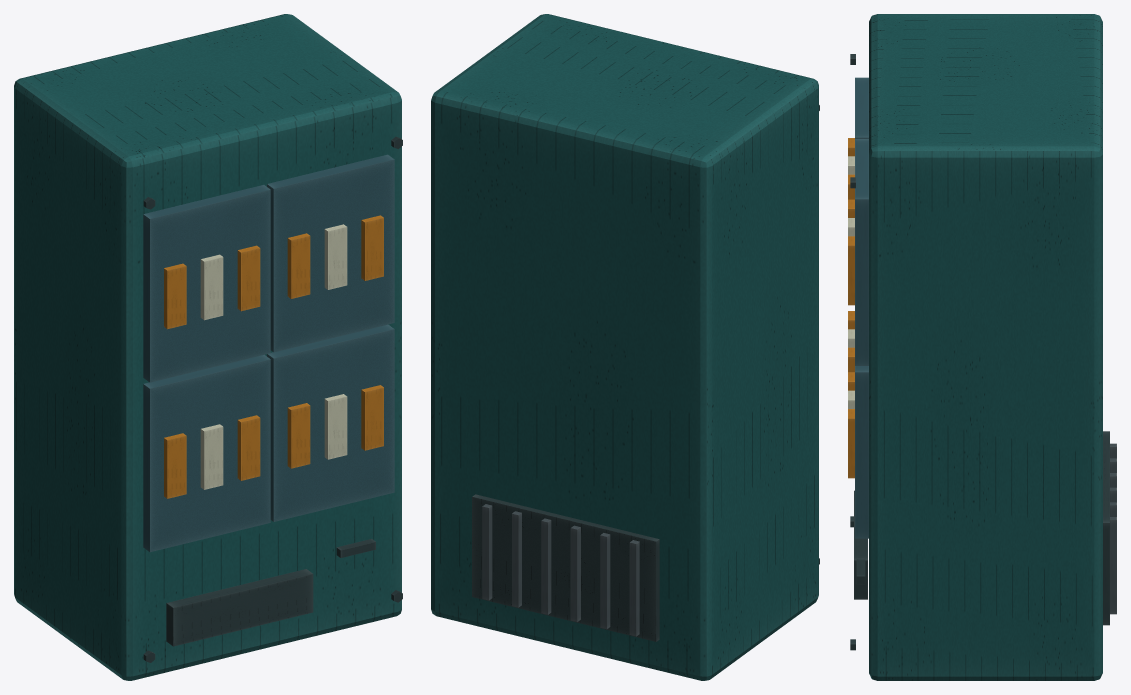
The model's file is vending_unit.fbx.
3 renders of one model, left to right at view 1: azimuth 30°, elevation 25°; view 2: azimuth 150°, elevation 25°; view 3: azimuth 270°, elevation 25°, orthographic.
Visible parts, largest first — view 1: vending_unit__shell, vending_unit__front_tile.002, vending_unit__front_tile, vending_unit__front_tile.003, vending_unit__front_tile.001, vending_unit__delivery_slot, vending_unit__product.001, vending_unit__product.002, vending_unit__product.003, vending_unit__product.004, vending_unit__product.008, vending_unit__product.007 (+6 smaller); view 2: vending_unit__shell, vending_unit__rear_vent, vending_unit__vent_fin.003, vending_unit__vent_fin, vending_unit__vent_fin.001, vending_unit__vent_fin.002, vending_unit__vent_fin.005, vending_unit__vent_fin.004; view 3: vending_unit__shell, vending_unit__front_tile.003, vending_unit__front_tile.001, vending_unit__rear_vent, vending_unit__front_tile.002, vending_unit__delivery_slot, vending_unit__vent_fin.005, vending_unit__product.005, vending_unit__product.011.
Boxes of the visible parts, box(x1,y1,x2,y2) form: vending_unit__shell: box(14, 14, 401, 680); vending_unit__front_tile.002: box(143, 185, 270, 382); vending_unit__front_tile: box(143, 354, 270, 552); vending_unit__front_tile.003: box(267, 154, 394, 352); vending_unit__front_tile.001: box(267, 324, 394, 521); vending_unit__delivery_slot: box(166, 569, 313, 646); vending_unit__product.001: box(200, 424, 223, 489); vending_unit__product.002: box(237, 415, 260, 480); vending_unit__product.003: box(287, 403, 310, 468); vending_unit__product.004: box(324, 394, 347, 459); vending_unit__product.008: box(237, 245, 260, 311); vending_unit__product.007: box(200, 254, 223, 320); vending_unit__shell: box(431, 14, 818, 680); vending_unit__rear_vent: box(472, 494, 659, 641); vending_unit__vent_fin.003: box(541, 518, 551, 614); vending_unit__vent_fin: box(629, 540, 639, 636); vending_unit__vent_fin.001: box(600, 533, 610, 629); vending_unit__vent_fin.002: box(570, 525, 580, 621); vending_unit__vent_fin.005: box(482, 504, 492, 600); vending_unit__vent_fin.004: box(512, 511, 521, 607); vending_unit__shell: box(869, 14, 1102, 680); vending_unit__front_tile.003: box(855, 139, 868, 365); vending_unit__front_tile.001: box(855, 366, 868, 538); vending_unit__rear_vent: box(1103, 431, 1109, 625); vending_unit__front_tile.002: box(855, 77, 868, 138); vending_unit__delivery_slot: box(854, 490, 867, 599); vending_unit__vent_fin.005: box(1110, 517, 1116, 614); vending_unit__product.005: box(848, 409, 854, 478); vending_unit__product.011: box(848, 236, 854, 305).
Size of the model in its own units: 190 by 340 by 155.
6 materials, 6 textured.
